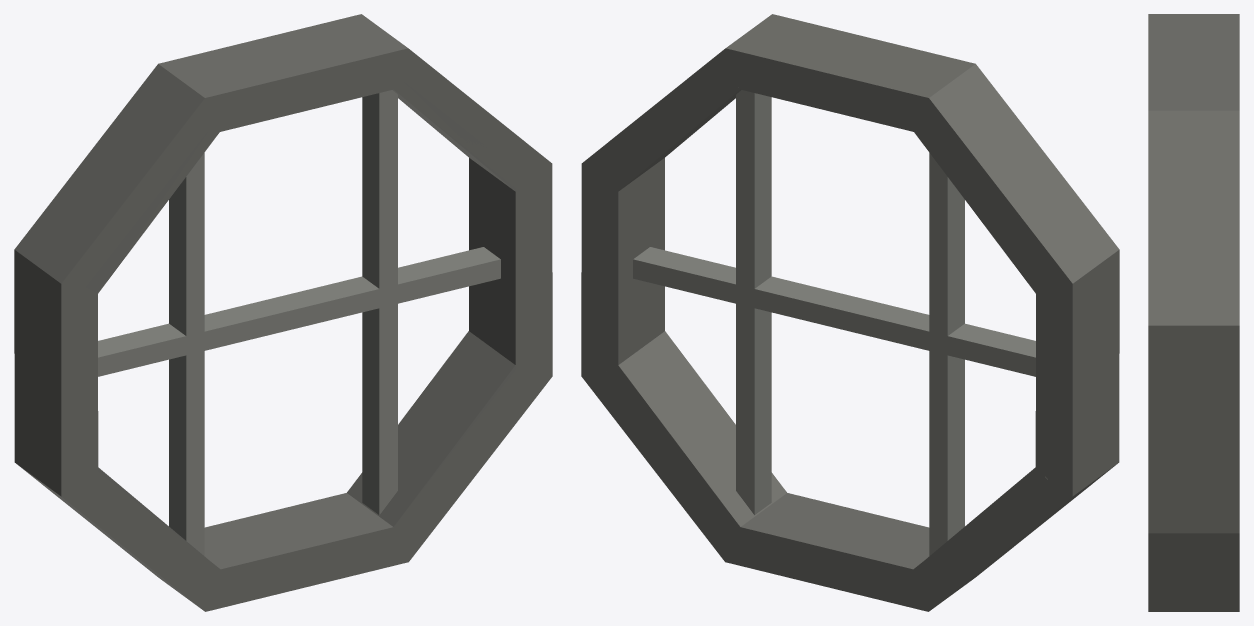
Rendered from GRATE.fbx.
3 renders of one model, left to right at view 1: azimuth 30°, elevation 25°; view 2: azimuth 150°, elevation 25°; view 3: azimuth 270°, elevation 25°, orthographic. The views are drawn at different scales.
Visible parts, largest first — view 1: Grate; view 2: Grate; view 3: Grate.
Part boxes in pixels (x1,y1,x2,y2): Grate: [14, 14, 552, 611]; Grate: [581, 14, 1119, 611]; Grate: [1148, 14, 1239, 611].
Size of the model in its own units: 157 by 157 by 26.02.
